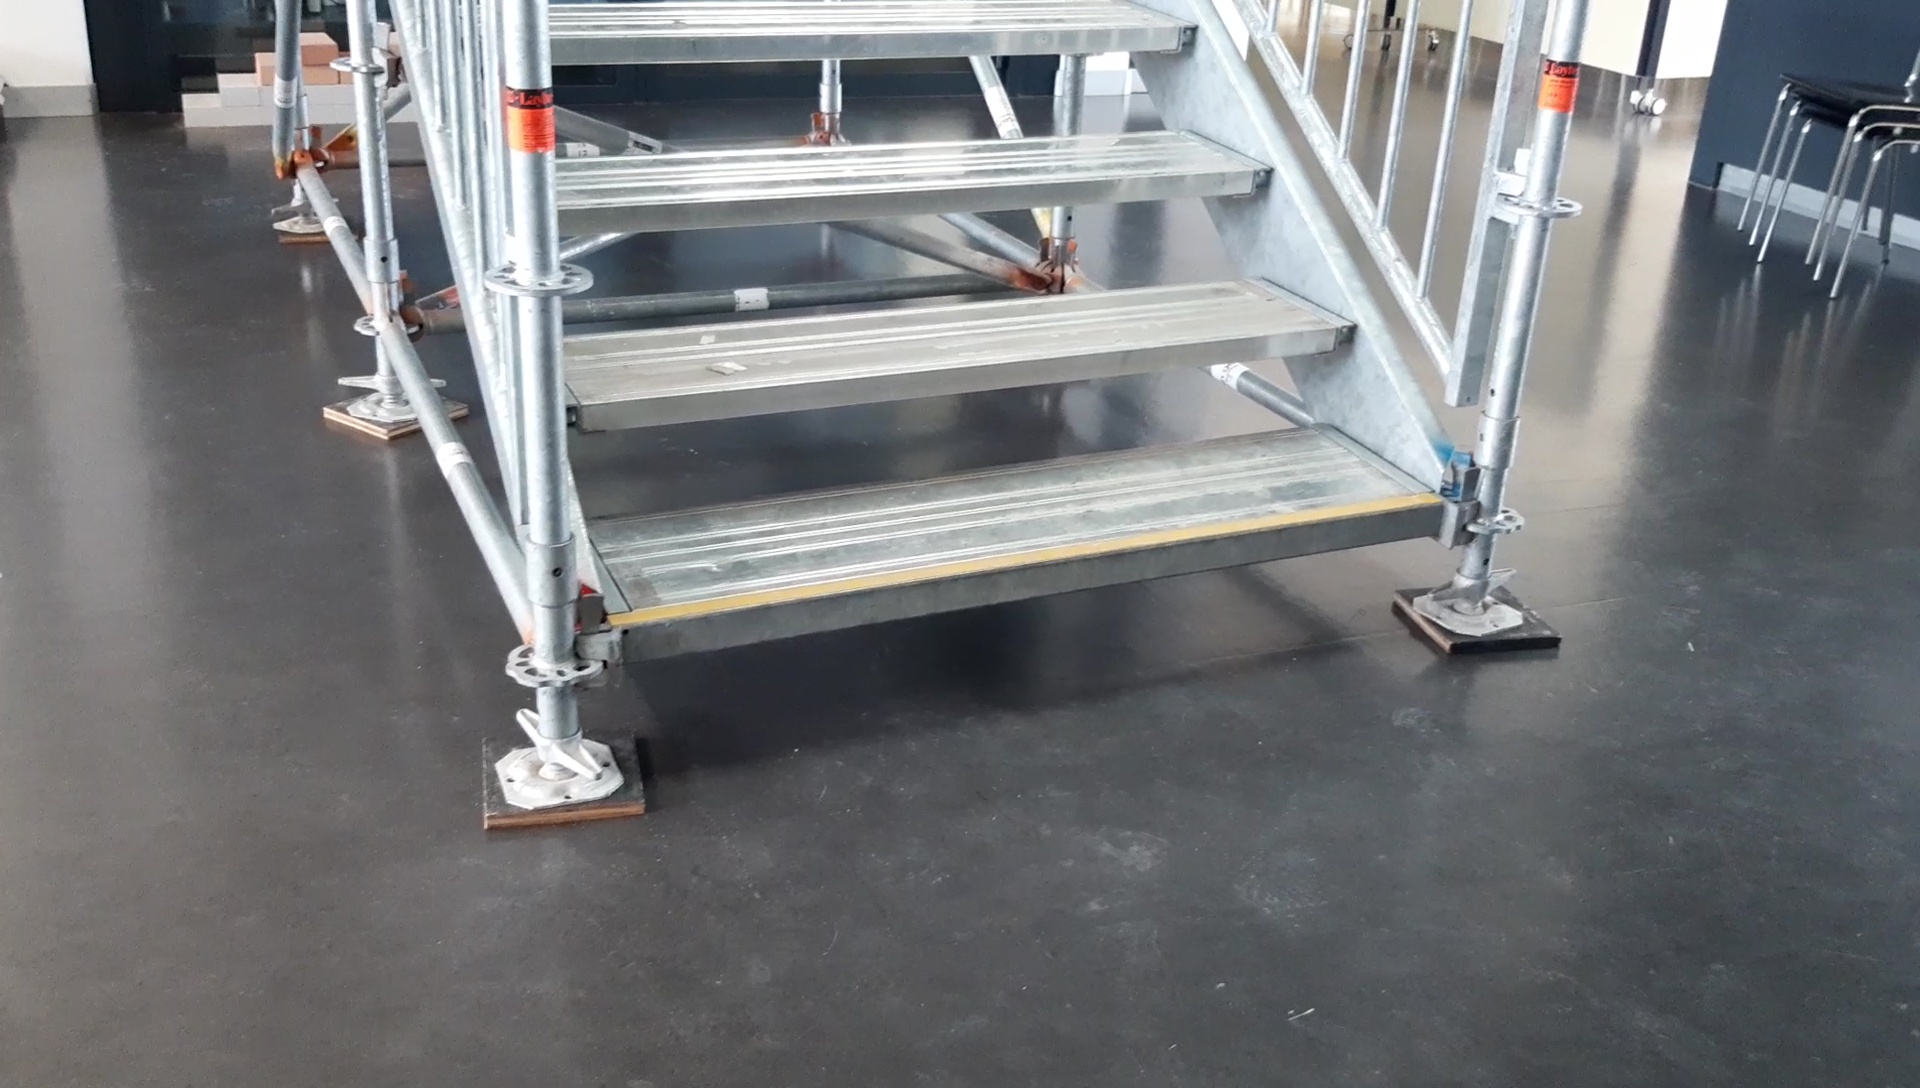edge: (617, 500, 1437, 666), (572, 324, 1356, 430), (555, 164, 1276, 232), (547, 22, 1200, 62)
stairs: (483, 5, 1565, 826)
